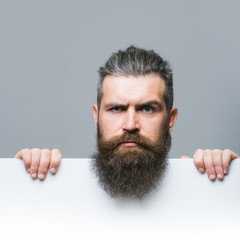young: (88, 50, 182, 188)
